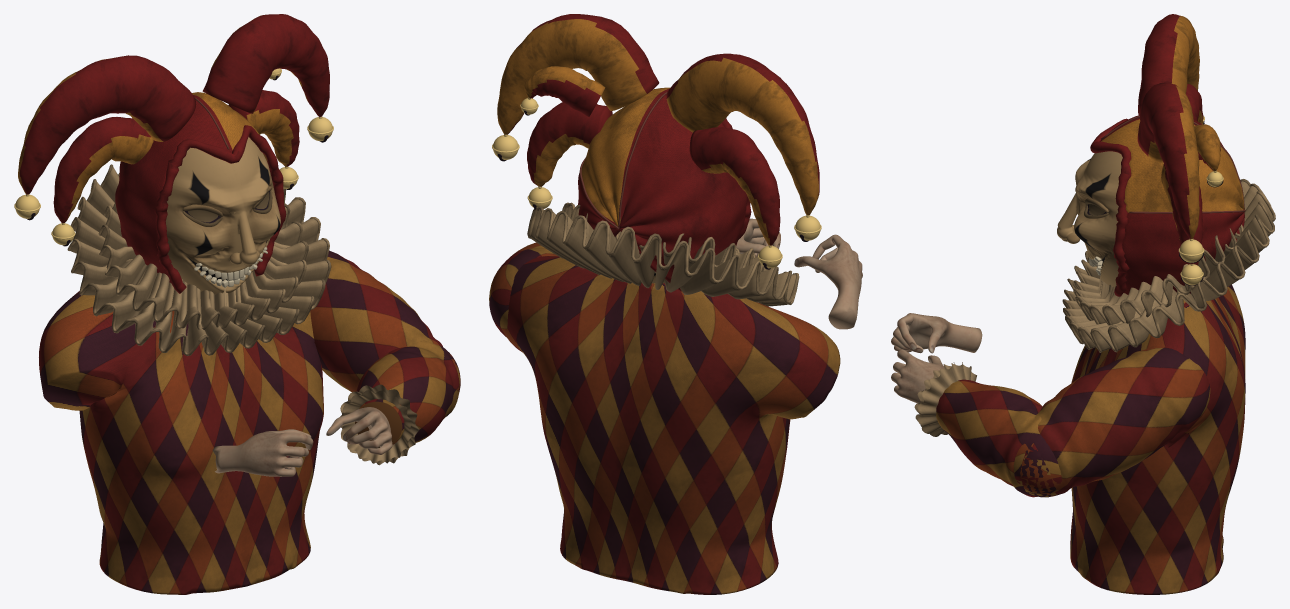
Rendered from jester.glb.
The picture shows the model from 3 angles, left to right: view 1: azimuth 30°, elevation 25°; view 2: azimuth 150°, elevation 25°; view 3: azimuth 270°, elevation 25°; orthographic projection. The views are drawn at different scales.
Visible parts, largest first — view 1: Body, Hat_Points, Ruff, Face, SleeveUpper, SleeveFore, Hood, Ruff_Hem, Hood_Hem, Hand_L, Hand_R, Hat_Bells (+2 smaller); view 2: Body, Hat_Points, Hood, Ruff, Ruff_Hem, Hand_L, Hat_Bells, SleeveUpper, Hand_R, Hood_Seams; view 3: Body, SleeveUpper, Hat_Points, SleeveFore, Hood, Ruff, Face, Ruff_Hem, Hand_L, Hood_Hem, Hand_R, Hat_Bells.
Part boxes in pixels (x1,y1,x2,y2): Body: (39,291,323,594); Hat_Points: (18,14,329,223); Ruff: (70,167,328,352); Face: (165,137,280,294); SleeveUpper: (310,250,460,391); SleeveFore: (340,340,460,465); Hood: (115,92,274,283); Ruff_Hem: (67,164,331,355); Hood_Hem: (154,125,286,293); Hand_L: (212,429,313,476); Hand_R: (326,407,392,454); Hat_Bells: (14,68,333,245); Body: (506,256,840,594); Hat_Points: (497,14,819,245); Hood: (578,87,747,291); Ruff: (530,206,796,306); Ruff_Hem: (527,202,799,304); Hand_L: (794,234,862,329); Hat_Bells: (492,97,821,268); SleeveUpper: (489,242,557,337); Hand_R: (736,218,780,256); Hood_Seams: (579,92,667,228); Body: (1070,284,1245,594); SleeveUpper: (1013,346,1210,497); Hat_Points: (1137,14,1220,264); SleeveFore: (914,362,1061,497); Hood: (1100,115,1244,294); Ruff: (1066,181,1272,351); Face: (1057,151,1122,286); Ruff_Hem: (1062,179,1275,352); Hand_L: (891,313,982,353); Hood_Hem: (1090,118,1131,296); Hand_R: (891,349,943,403); Hat_Bells: (1178,116,1223,285).
Size of the model in its own units: 0.9835 by 1.33 by 0.9358.
Materials: 11 (6 with a texture image).
